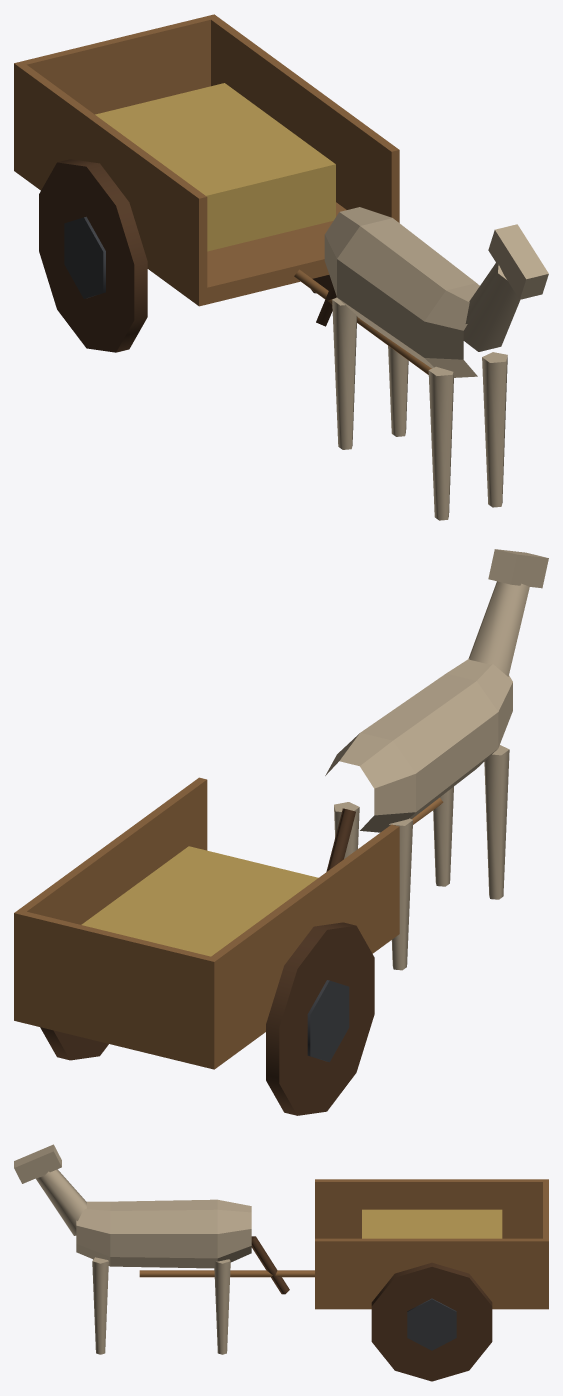
The model's file is veh_ground_cart_a02.glb.
The picture shows the model from 3 angles, top to bottom: view 1: azimuth 30°, elevation 25°; view 2: azimuth 150°, elevation 25°; view 3: azimuth 270°, elevation 25°; orthographic projection. The views are drawn at different scales.
Parts seen in each view (by area): view 1: body, animal_0, wheel_0; view 2: body, animal_0, wheel_0, wheel_1; view 3: body, animal_0, wheel_1.
Part boxes in pixels (x1=…): body: x1=14, y1=14, x2=431, y2=374; animal_0: x1=316, y1=207, x2=548, y2=520; wheel_0: x1=39, y1=159, x2=147, y2=352; body: x1=14, y1=777, x2=443, y2=1069; animal_0: x1=325, y1=549, x2=548, y2=970; wheel_0: x1=266, y1=922, x2=374, y2=1115; wheel_1: x1=40, y1=1027, x2=108, y2=1060; body: x1=139, y1=1179, x2=548, y2=1309; animal_0: x1=14, y1=1144, x2=289, y2=1354; wheel_1: x1=371, y1=1262, x2=492, y2=1381.
Size of what is drawn, in the model's own units: 1.84 by 2.23 by 5.49.
